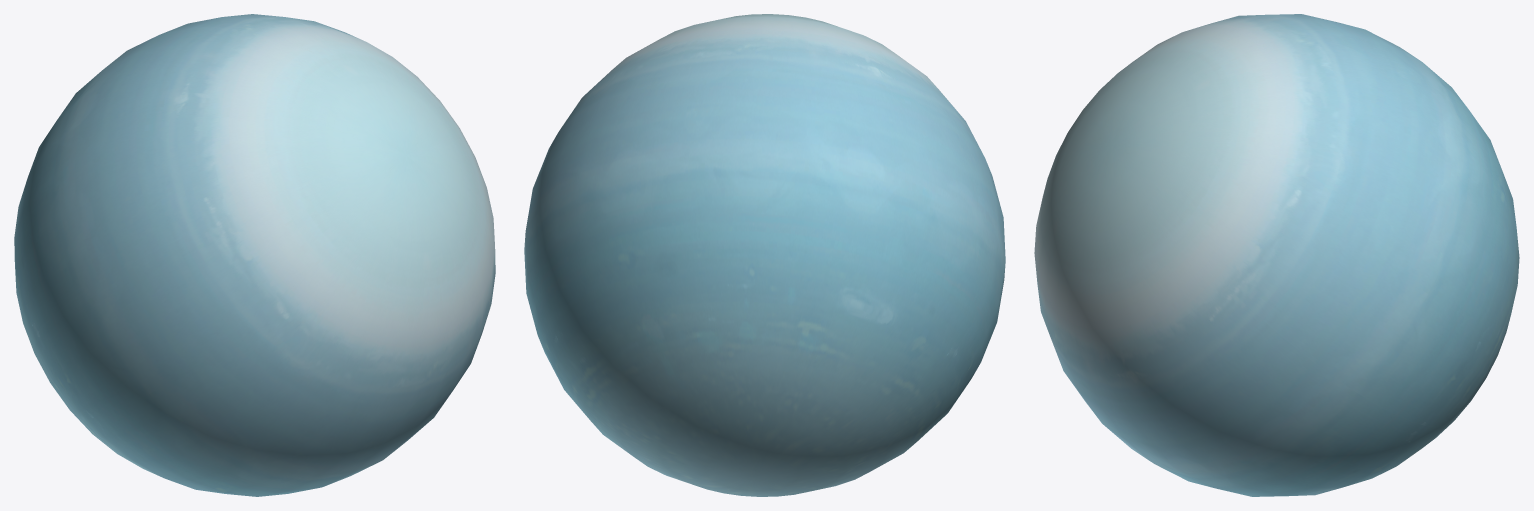
File: uranus.fbx
3 renders of one model, left to right at view 1: azimuth 30°, elevation 25°; view 2: azimuth 150°, elevation 25°; view 3: azimuth 270°, elevation 25°, orthographic.
Visible parts, largest first — view 1: uranus; view 2: uranus; view 3: uranus.
Boxes of the visible parts, box(x1,y1,x2,y2) form: uranus: box(14, 14, 495, 496); uranus: box(524, 14, 1005, 496); uranus: box(1034, 14, 1519, 496).
Size of the model in its own units: 15.48 by 15.51 by 15.54.
1 material, 1 textured.
